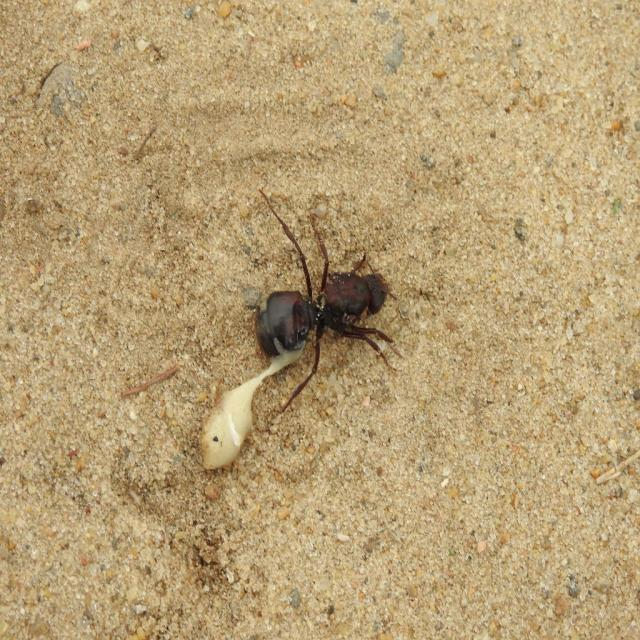Dead-Female-Dealate: (246, 188, 405, 415)
